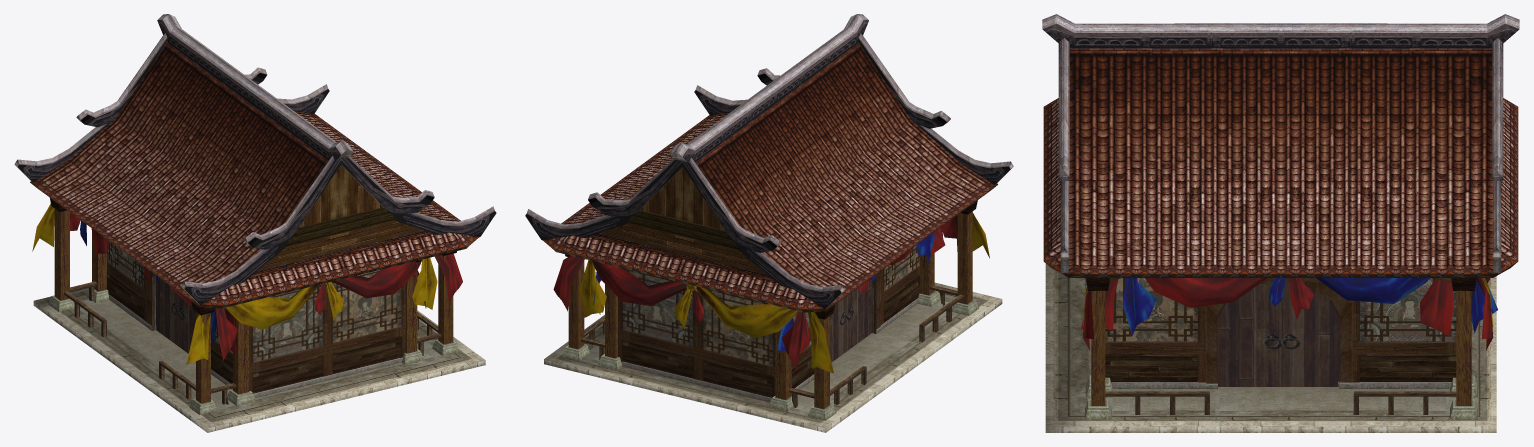
Rendered from a1-032-shamanhouse.fbx.
3 renders of one model, left to right at view 1: azimuth 30°, elevation 25°; view 2: azimuth 150°, elevation 25°; view 3: azimuth 270°, elevation 25°, orthographic. The views are drawn at different scales.
Visible parts, largest first — view 1: 1; view 2: 1; view 3: 1.
Boxes of the visible parts, x1=… form: 1: x1=14, y1=14, x2=496, y2=432; 1: x1=525, y1=14, x2=1013, y2=432; 1: x1=1042, y1=14, x2=1519, y2=432.
Size of the model in its own units: 9.89 by 7.73 by 10.11.
